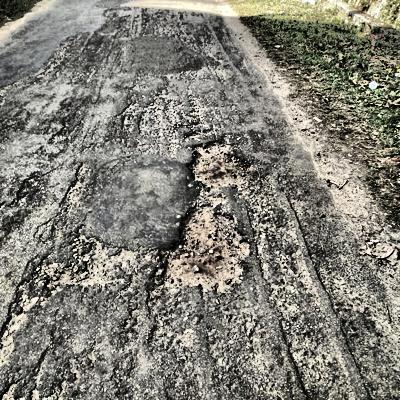pothole: (156, 201, 252, 293), (187, 135, 250, 187)
